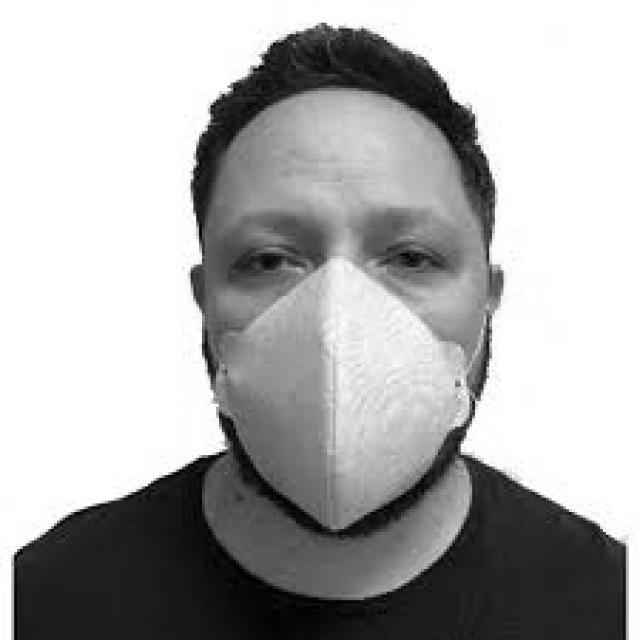fake: (208, 258, 487, 547)
real: (198, 82, 493, 543)
